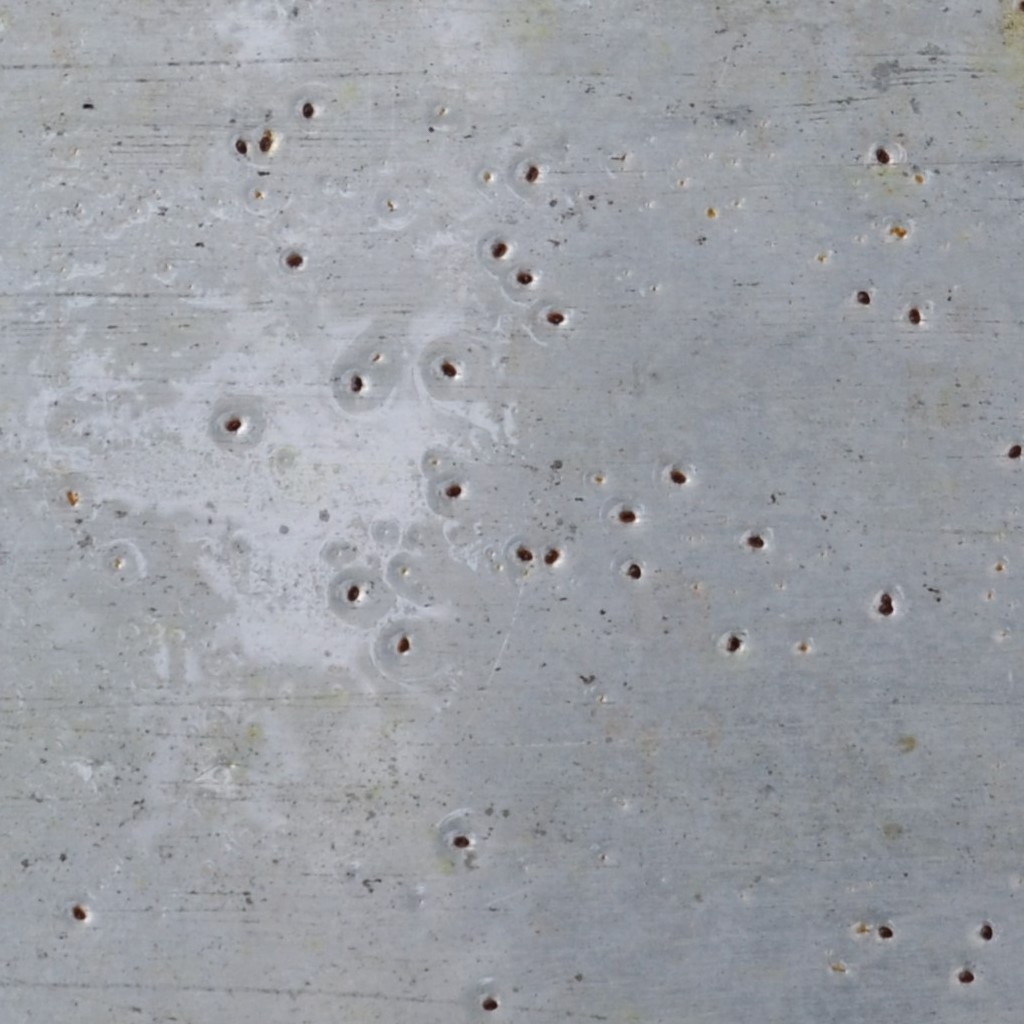varroa: (544, 301, 566, 334), (723, 628, 744, 658), (222, 409, 245, 436), (621, 559, 643, 583), (953, 964, 978, 985), (437, 357, 458, 382), (438, 478, 463, 499), (869, 143, 891, 166), (745, 527, 766, 551), (449, 832, 474, 852), (515, 268, 537, 290), (852, 285, 873, 308), (666, 464, 687, 487), (286, 250, 307, 273), (479, 996, 503, 1016), (395, 629, 411, 657), (513, 544, 535, 564), (976, 921, 995, 944), (614, 507, 638, 525), (874, 921, 895, 941), (541, 546, 562, 566), (70, 902, 90, 923), (490, 239, 509, 261), (350, 374, 368, 397), (1003, 441, 1023, 461), (905, 304, 924, 325), (231, 136, 249, 158), (523, 161, 540, 184), (345, 582, 364, 602), (875, 600, 895, 617), (258, 133, 274, 152), (300, 99, 314, 120), (876, 587, 893, 604)
